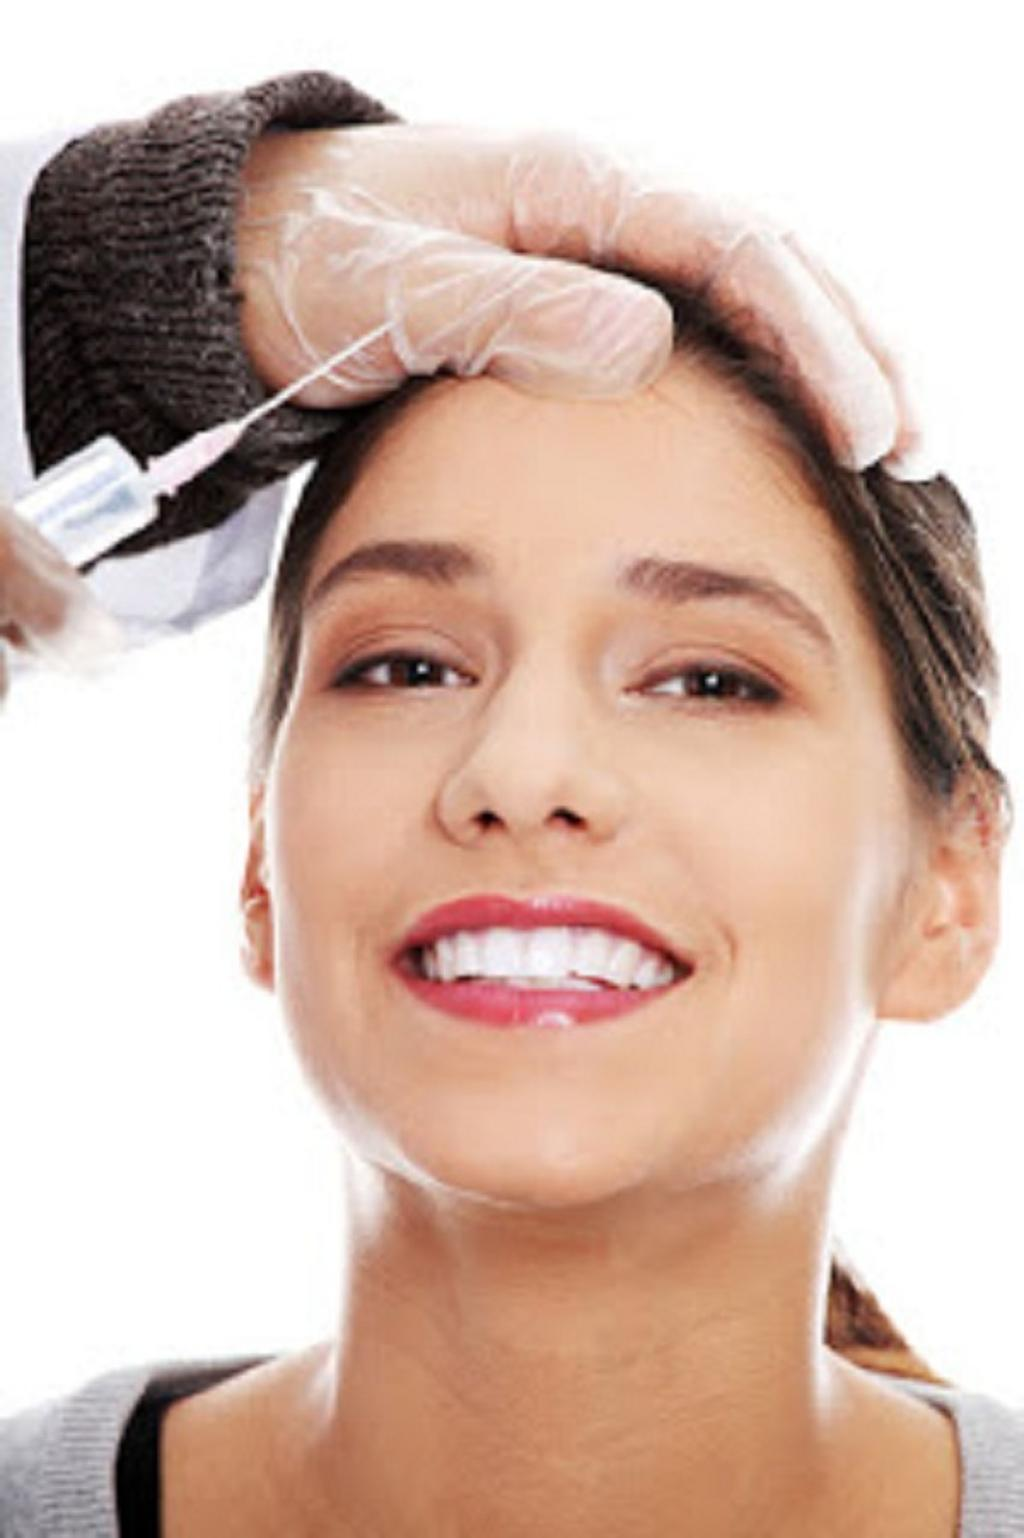face: (267, 333, 883, 1195)
